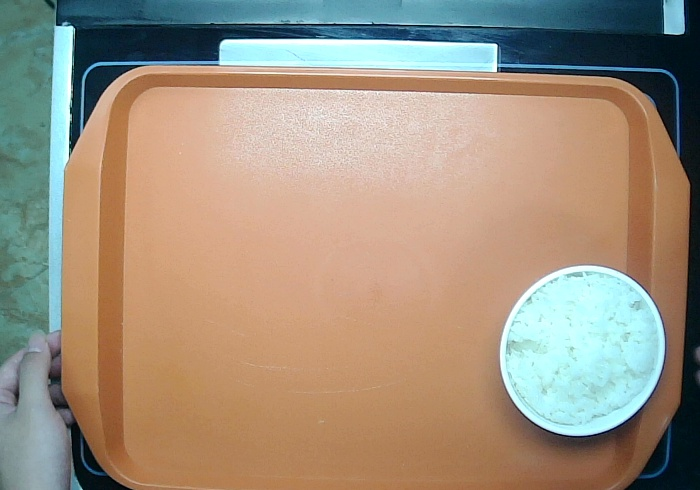HZYJPL-Fan_Wan: (500, 263, 666, 439)
